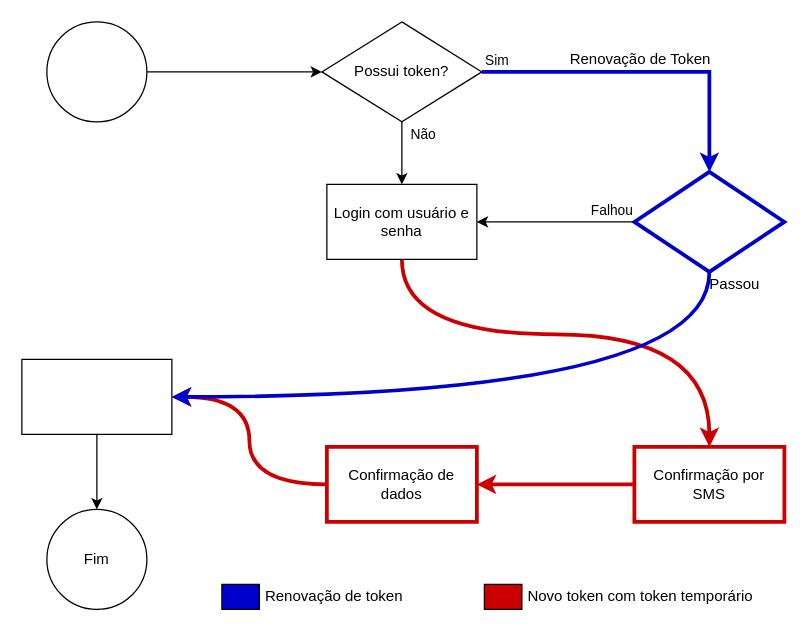
Some shapes in this 808 by 631 pixel diagram are drawn without their labels. The shapes that lost their labels are listed below. From the top down, each one's centre as x and y in pixels, then its label:
(x=96, y=71): Início
(x=709, y=221): Verificação access pattern
(x=96, y=396): Geração do token
